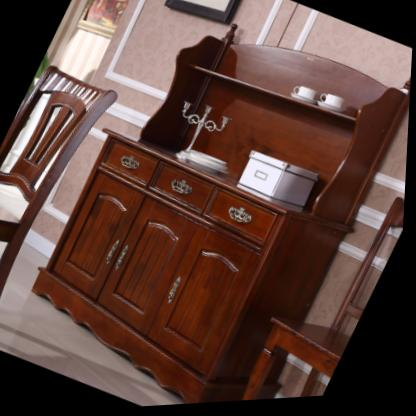Cupboard: (36, 41, 411, 406)
Wooden floor: (0, 244, 190, 408)
